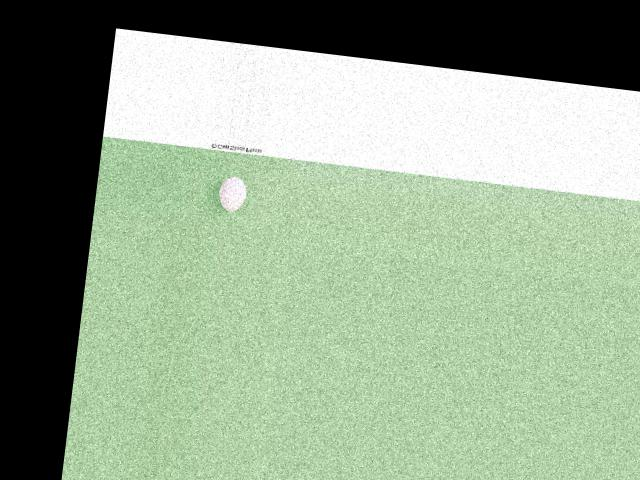egg: (217, 175, 248, 212)
